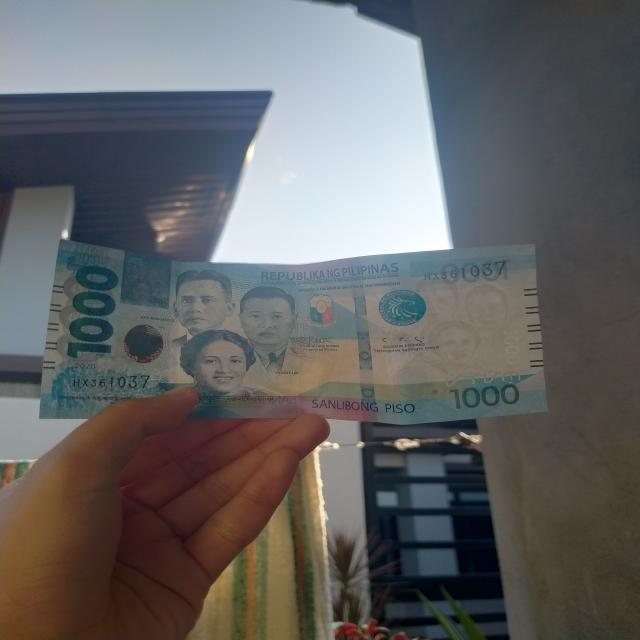concealed_value: (120, 250, 172, 309)
optically_variable_device: (110, 315, 172, 371)
security_thread: (346, 257, 377, 424)
see_through_mark: (438, 368, 526, 388)
serial_number: (412, 258, 512, 284), (69, 372, 151, 391)
value_watermark: (503, 328, 523, 365)
watermark: (411, 274, 509, 365)
